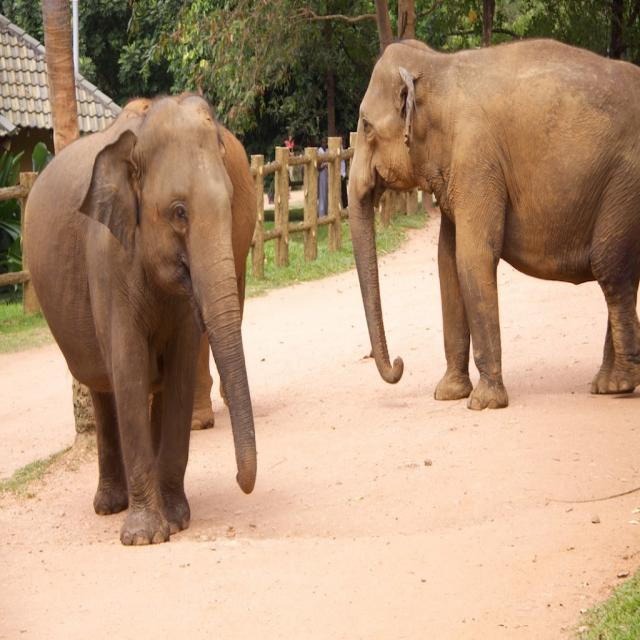Elephant: (341, 36, 639, 413), (21, 93, 266, 545)
